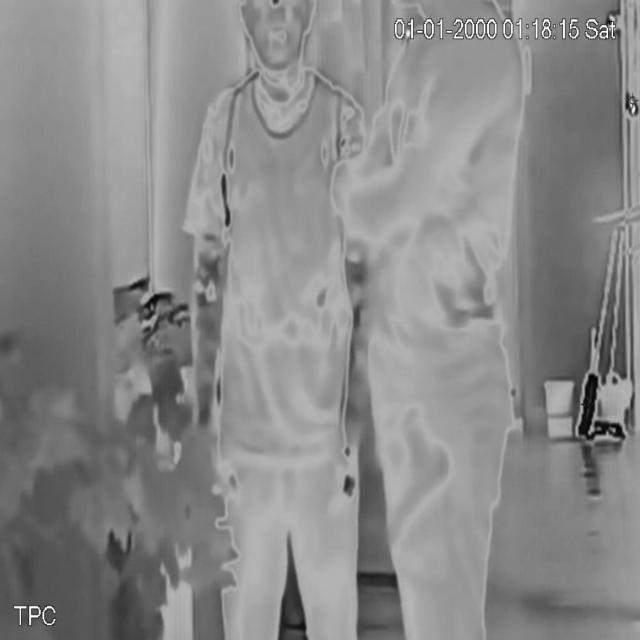Weapon: (380, 402, 460, 550)
